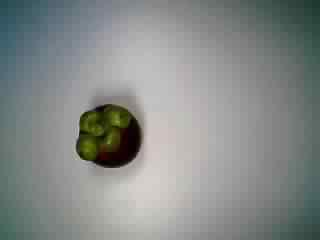mangosteen: (71, 98, 144, 171)
